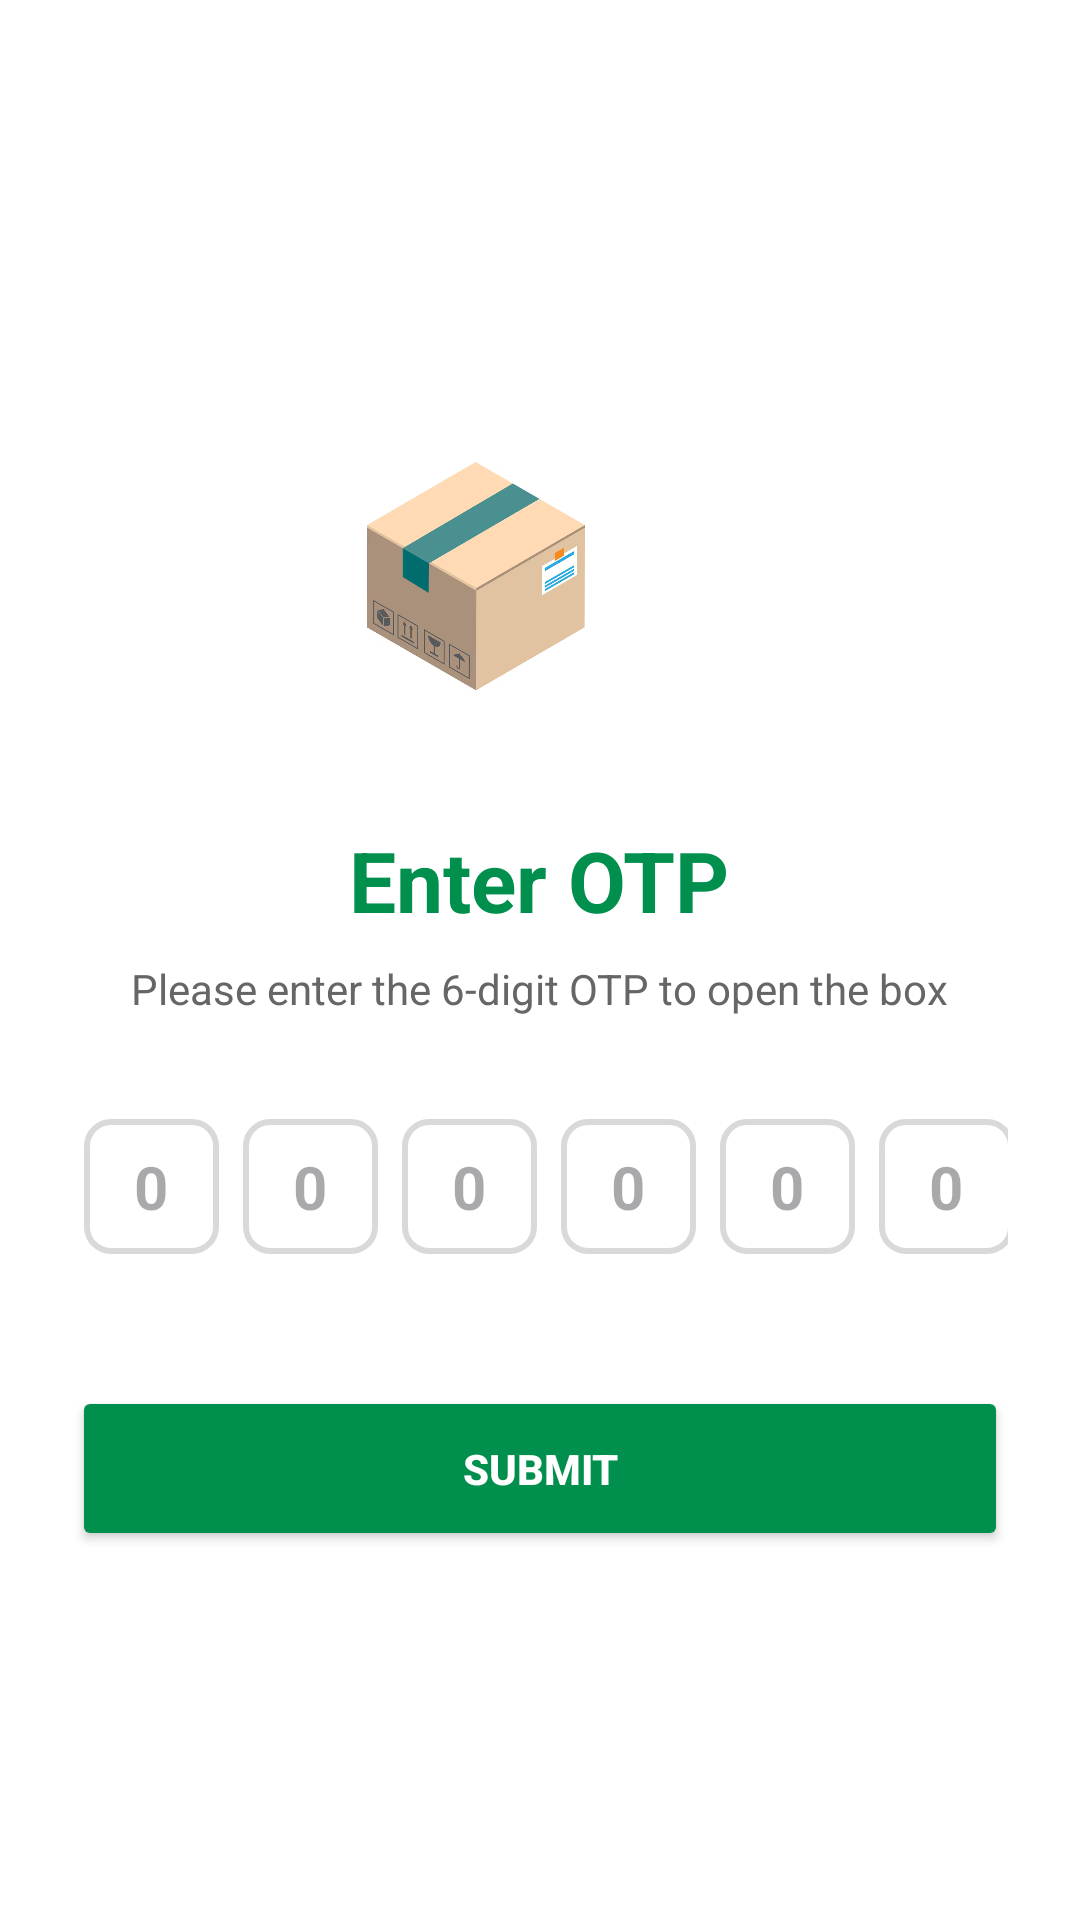

Where to tap for icons on this 1080x1920 app screen, as (x=x, y=y):
Delivery Box: (x=476, y=576)
